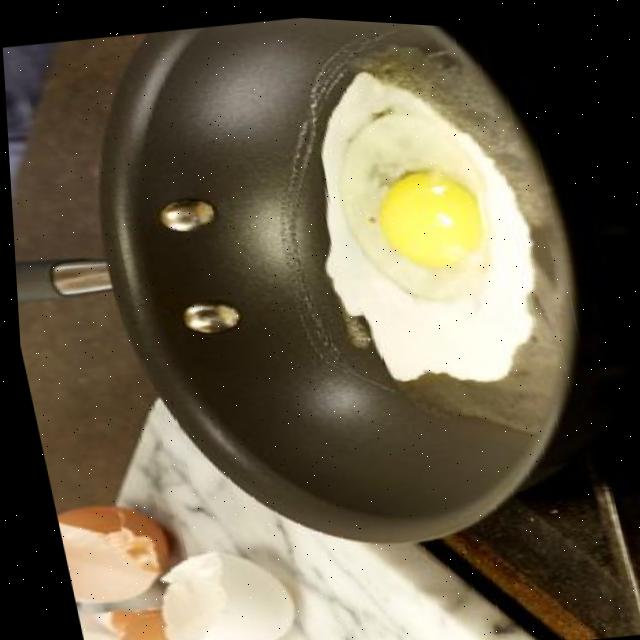Egg: (321, 68, 531, 375)
